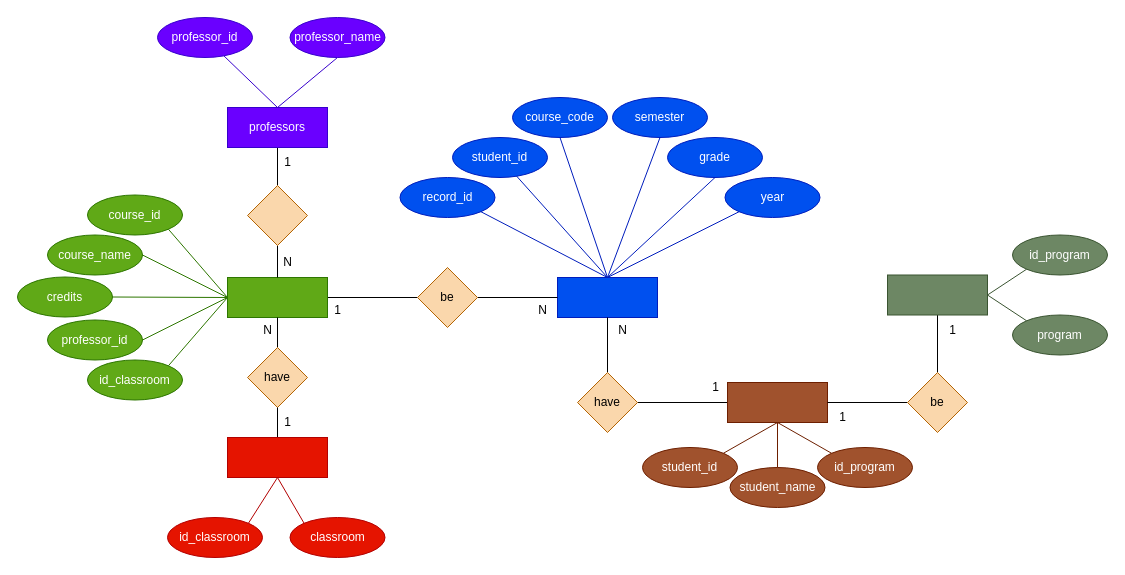
The diagram is 1125 pixels wide and 575 high, and some of its shapes have lost their labels. Here are the shapes that lost their labels. From the top down, the centre of each, then its label:
At (x=277, y=215): "teach in".
At (x=277, y=297): "courses".
At (x=607, y=297): "records".
At (x=937, y=294): "programs".
At (x=777, y=402): "students".
At (x=277, y=457): "classrooms".
